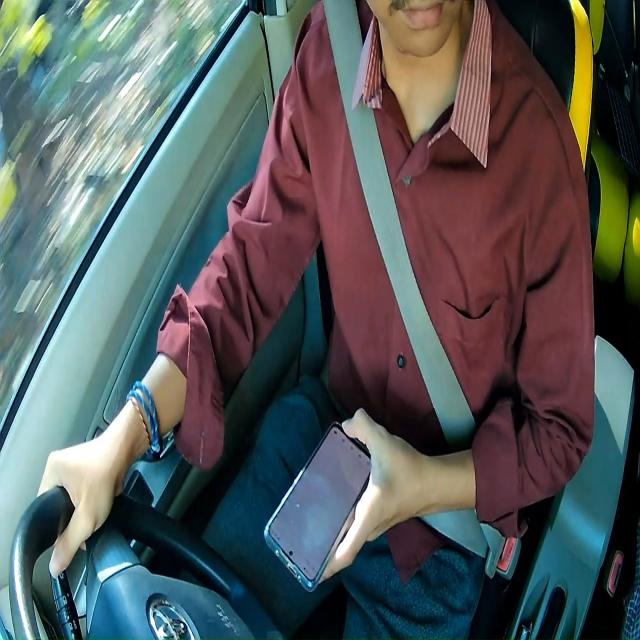phone: (264, 422, 371, 591)
